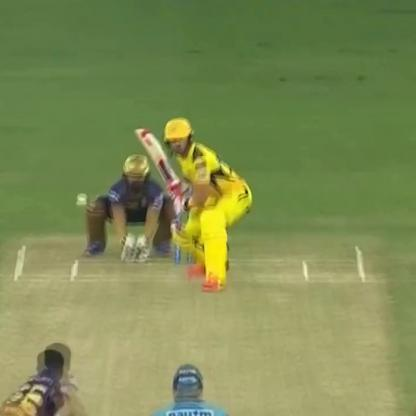ball: (73, 200, 92, 211), (75, 189, 89, 201)
bat: (140, 119, 188, 211)
pitch: (1, 238, 410, 416)
